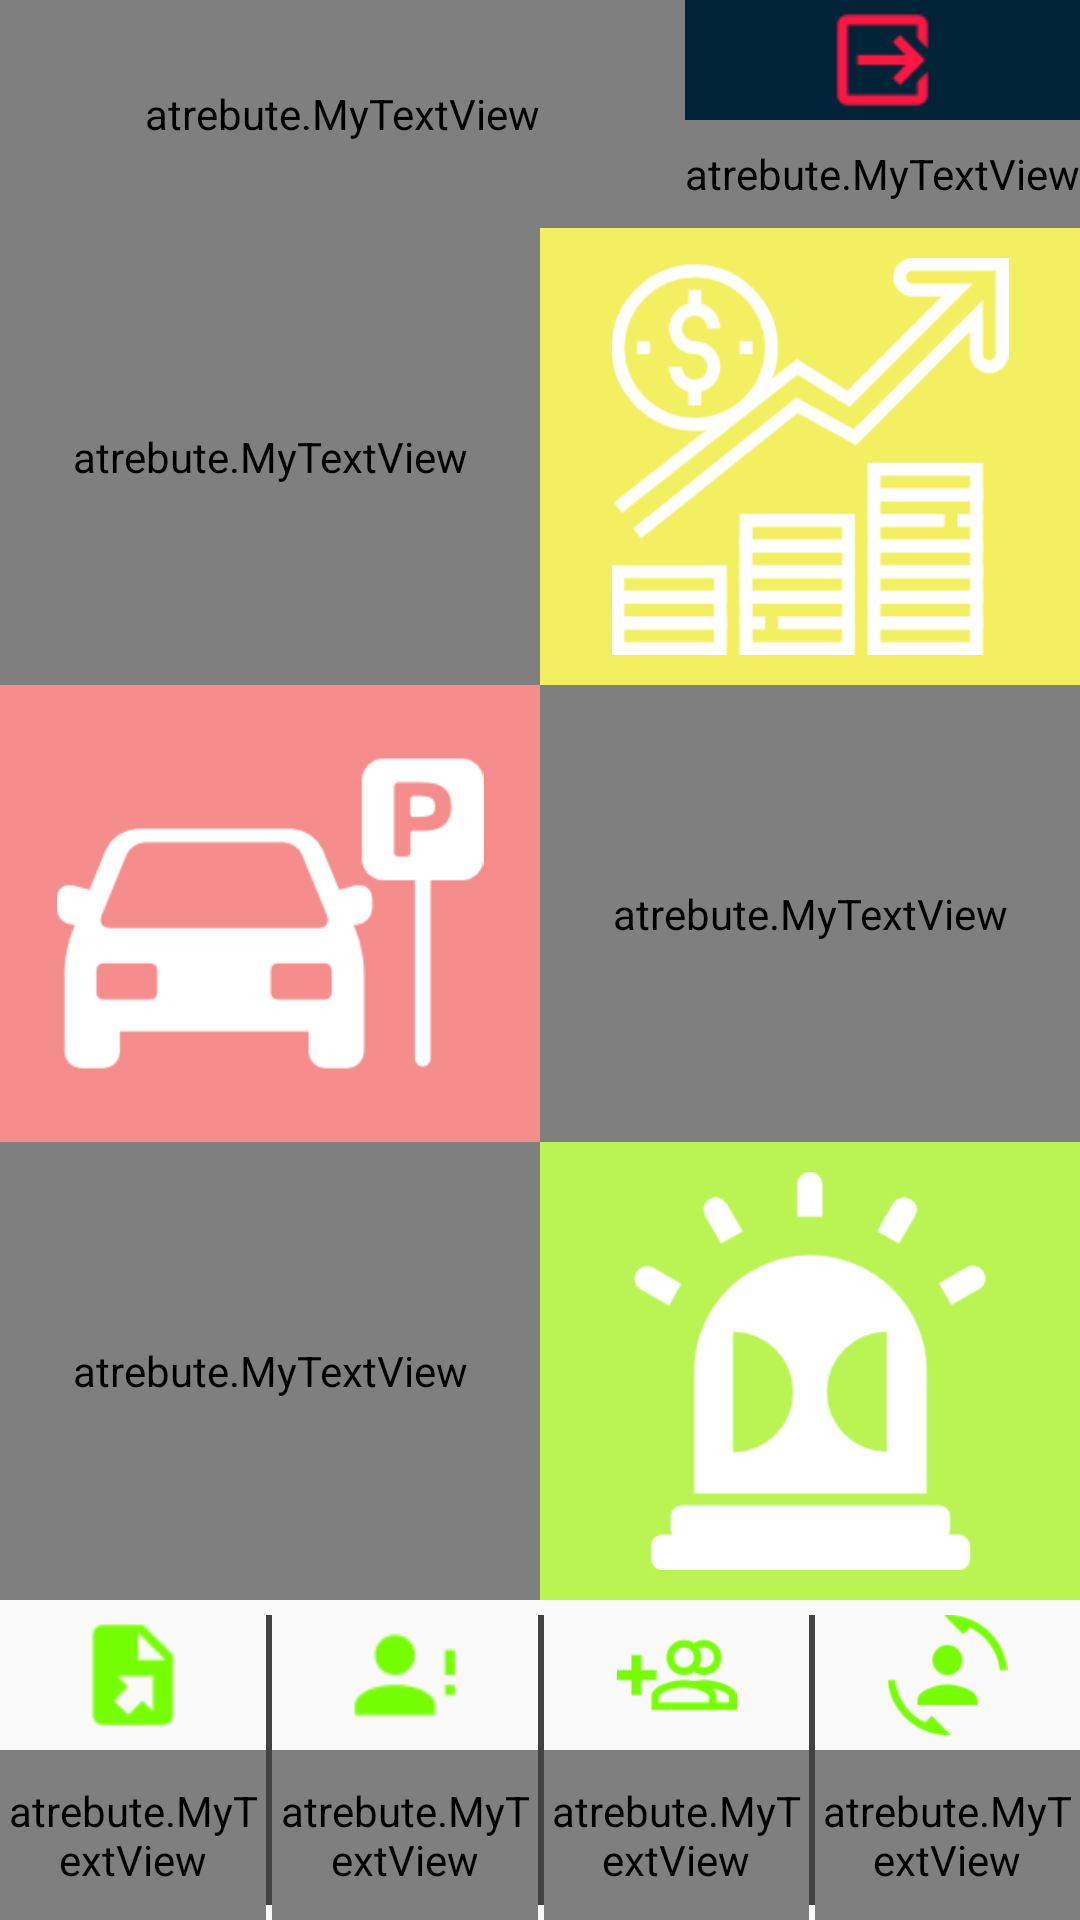

Where to tap for icons on this 1080px×1920px app screen, as (x=x, y=y):
file export: (x=133, y=1675)
useractive: (x=947, y=1675)
userdeactive: (x=405, y=1675)
